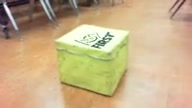cube: (54, 24, 130, 97)
